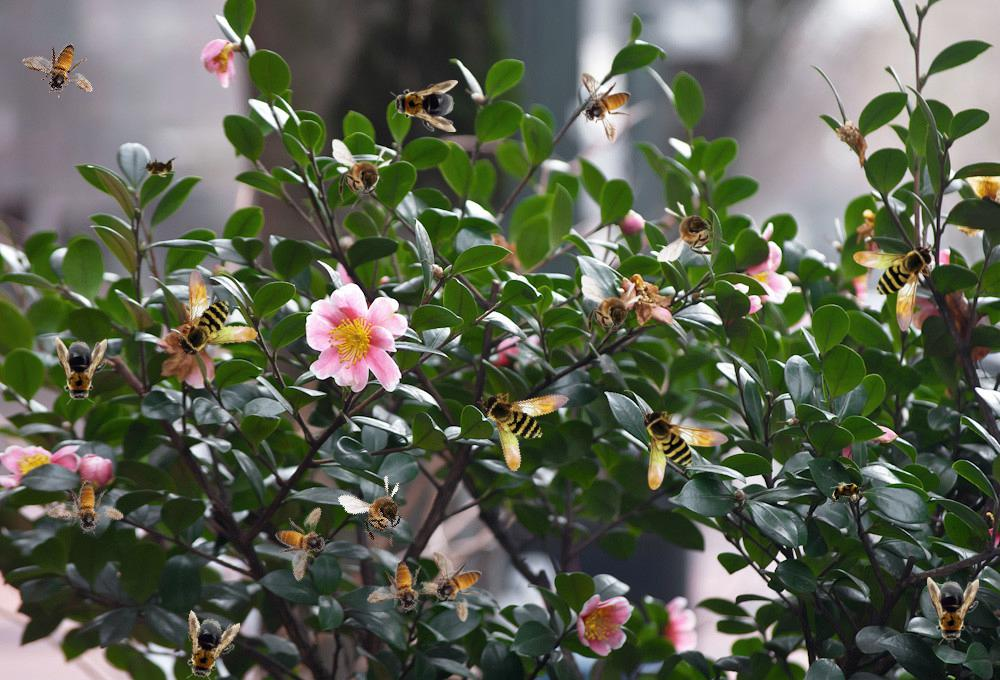Bee: (475, 368, 587, 476), (163, 259, 261, 361), (336, 465, 427, 557), (20, 27, 106, 114), (261, 496, 345, 583), (853, 244, 935, 332), (641, 408, 729, 490), (46, 470, 132, 547), (366, 554, 448, 621), (175, 610, 241, 680), (581, 275, 642, 345), (657, 201, 727, 262), (332, 139, 393, 209), (432, 551, 482, 622), (581, 72, 631, 143), (390, 80, 458, 132), (55, 337, 107, 405), (927, 577, 979, 645), (825, 478, 869, 506), (139, 156, 179, 178)
